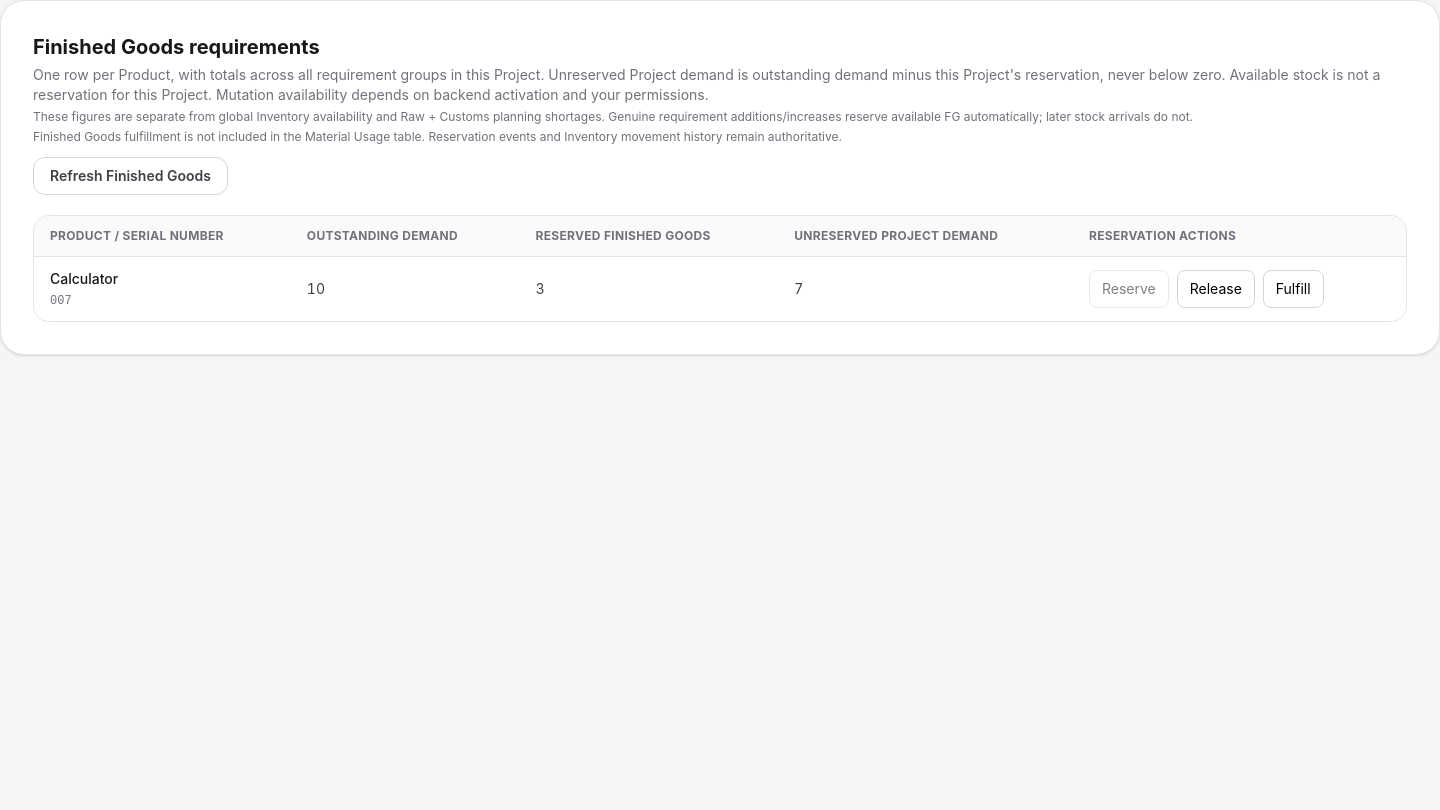
Test: Project Finished Goods mutation UI › archived Product permits Release, denies Fulfill without name-based inference
Click the button with aria-label "Fulfill Calculator". click: (1293, 289)
box: [1263, 270, 1324, 308]
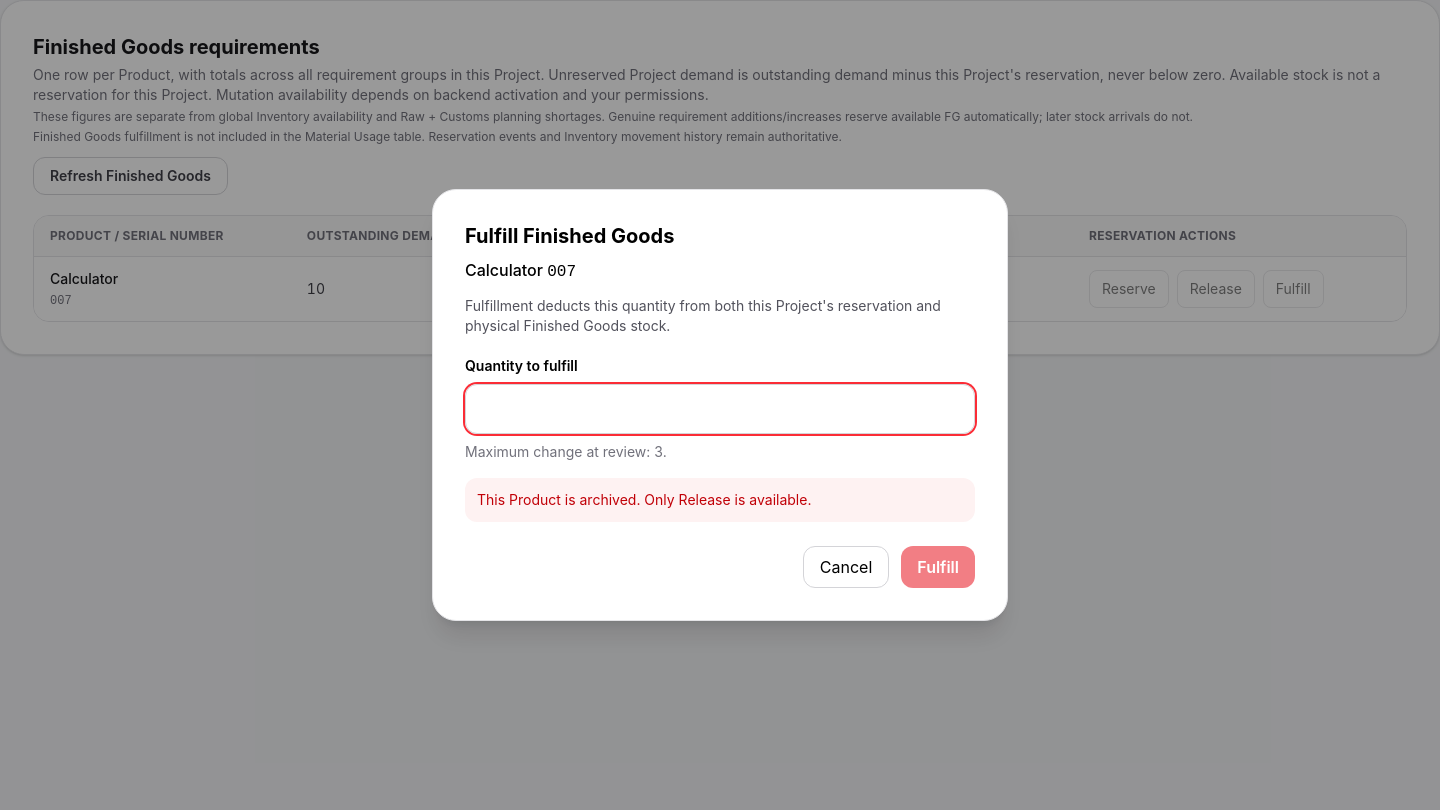
Check: the message shows "archived", box [477, 491, 812, 508]
Check: the button "Fulfill" is disabled, box [901, 546, 975, 588]
Click the button "Cancel". click: (846, 567)
box: [803, 546, 889, 588]
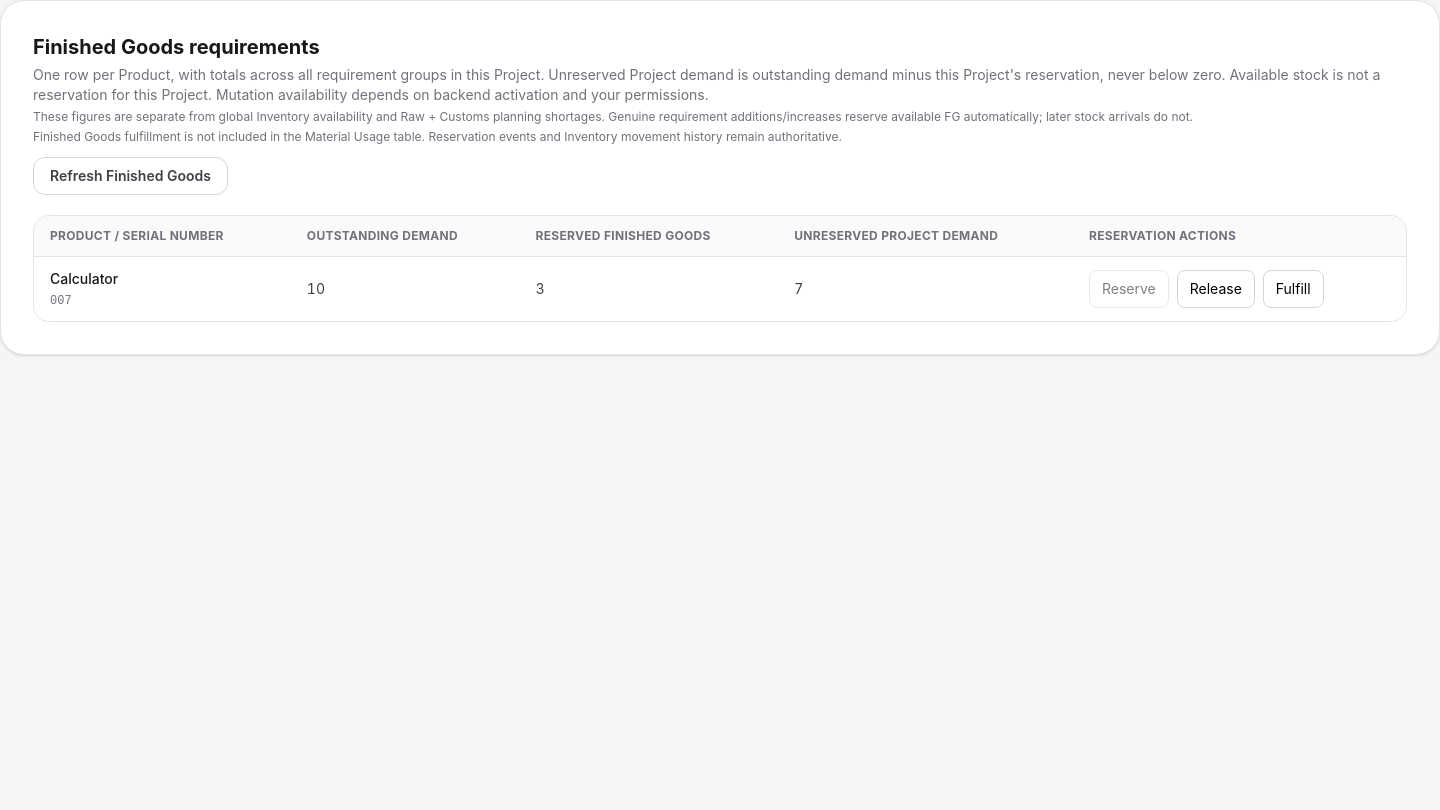
Click the button with aria-label "Release Calculator". click: (1216, 289)
box: [1177, 270, 1255, 308]
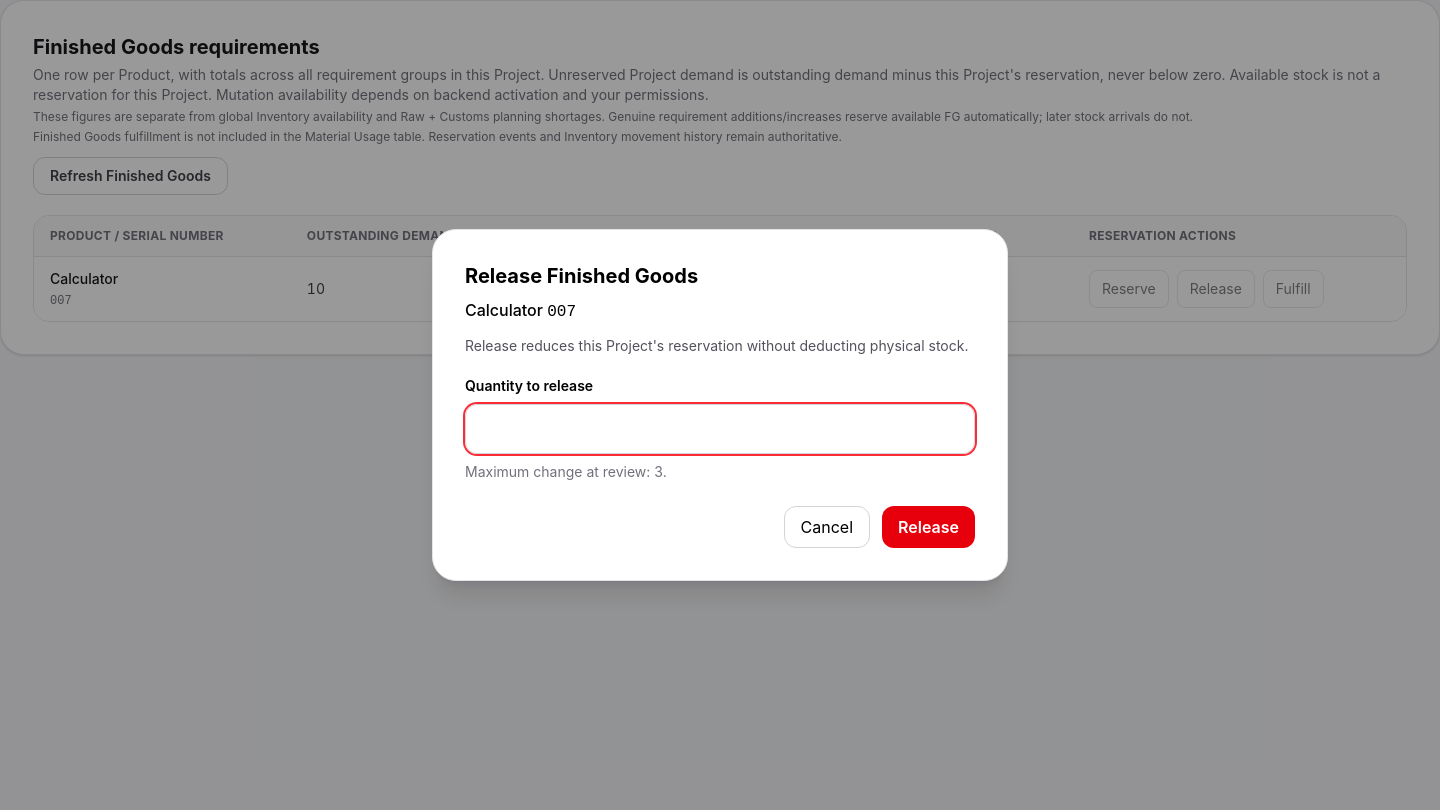
Check: the button "Release" is enabled, box [882, 506, 975, 548]
